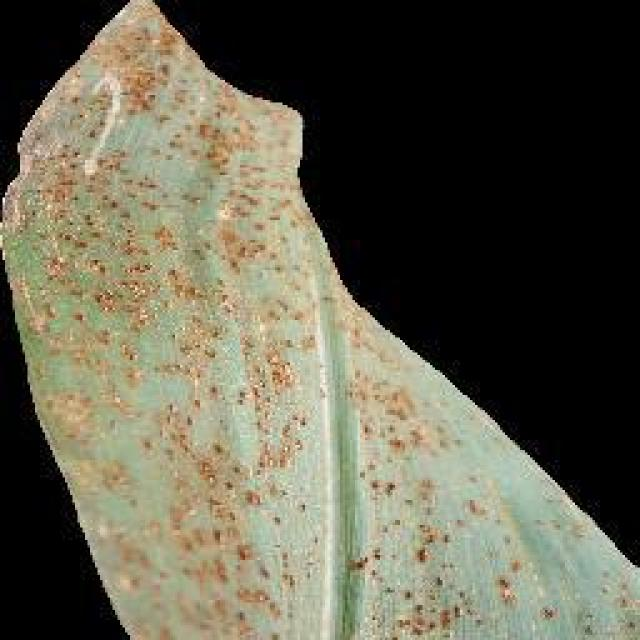Corn Common Rust: (55, 52, 475, 638)
